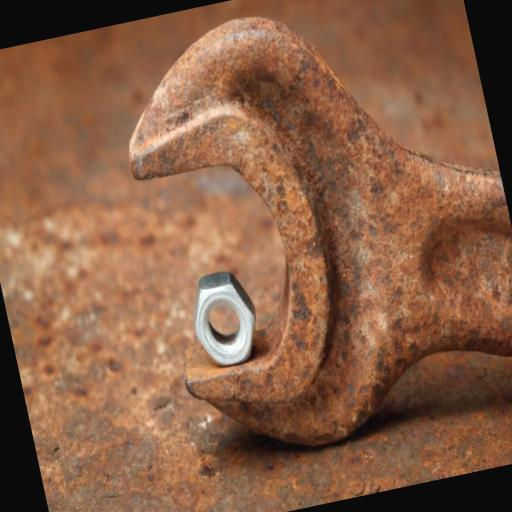segmentation: (29, 346, 512, 512), (101, 0, 496, 171)
